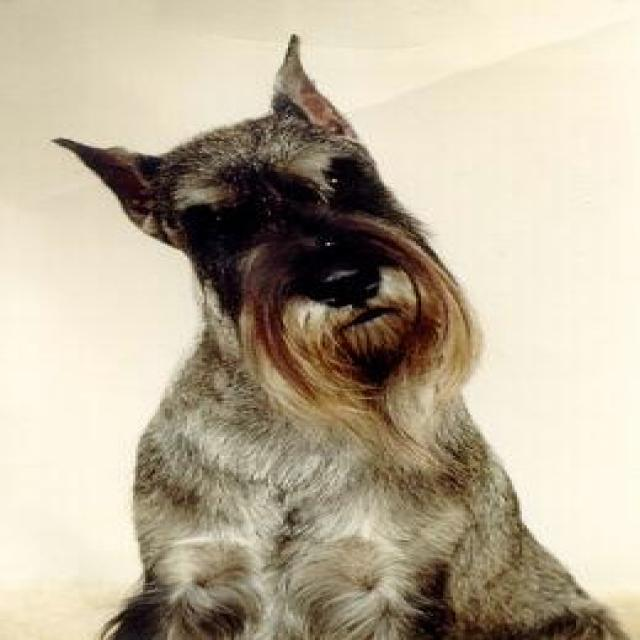standard_schnauzer: (37, 29, 637, 638)
